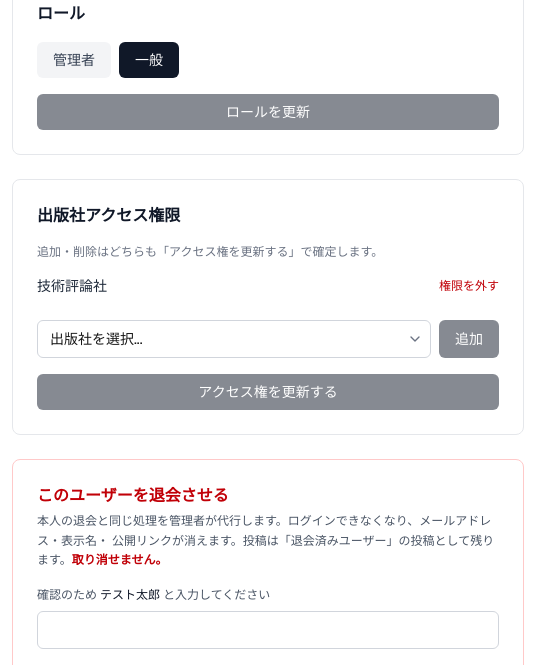
AdminUserEditor › 代行退会 › サーバーが失敗を返したらエラーを表示し、画面に留まる
In the field labelled "確認のため テスト太郎 と入力してください": [268, 630] box [37,610,499,648], type "テスト太郎"
(page scrolled)
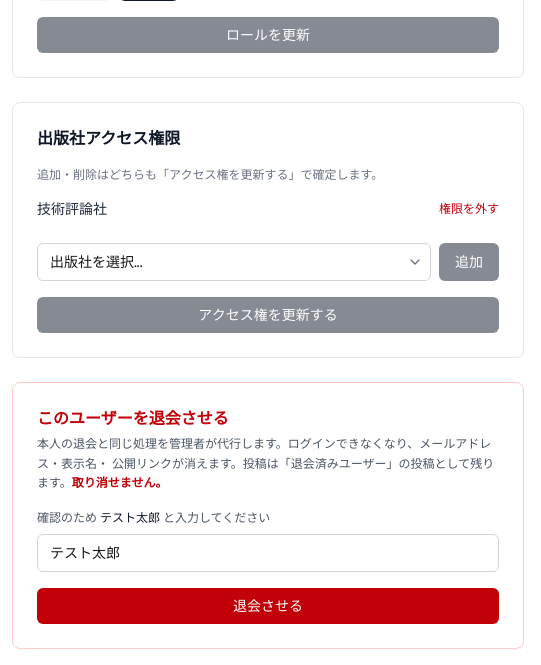
Click the button "退会させる": [268, 606] box [37,588,499,624]
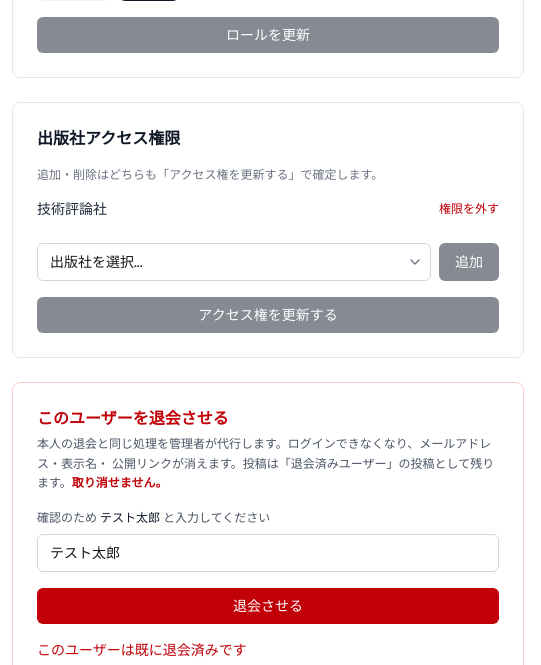
expect the text "このユーザーは既に退会済みです" is shown: met, box [37,640,247,658]
